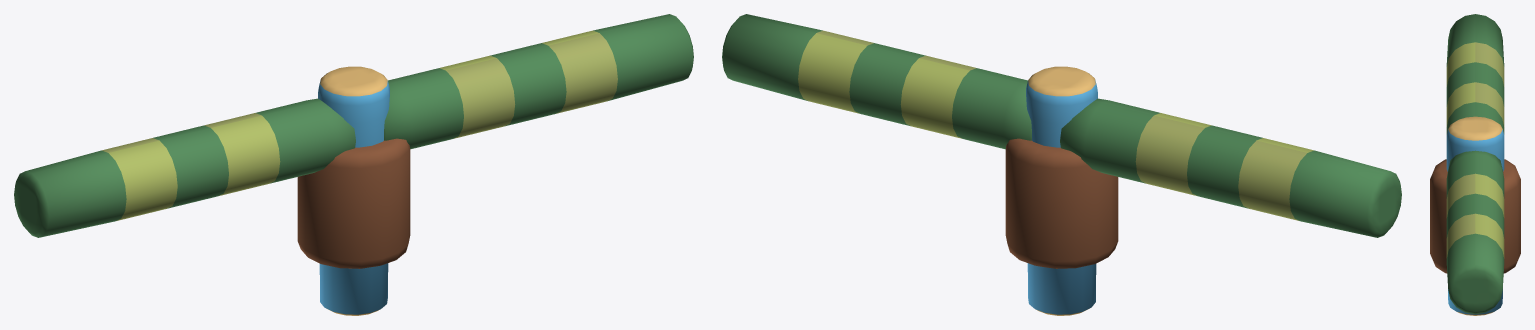
The model's file is OBS0110187.fbx.
3 renders of one model, left to right at view 1: azimuth 30°, elevation 25°; view 2: azimuth 150°, elevation 25°; view 3: azimuth 270°, elevation 25°, orthographic. The views are drawn at different scales.
Visible parts, largest first — view 1: smOBS0110187; view 2: smOBS0110187; view 3: smOBS0110187.
Boxes of the visible parts, x1,y1,x2,y2 form: smOBS0110187: (14,14,693,315); smOBS0110187: (722,14,1401,315); smOBS0110187: (1430,14,1520,315).
Bounding box in the file's own units: 364 × 120 × 55.17.
Materials: 1 (1 with a texture image).
